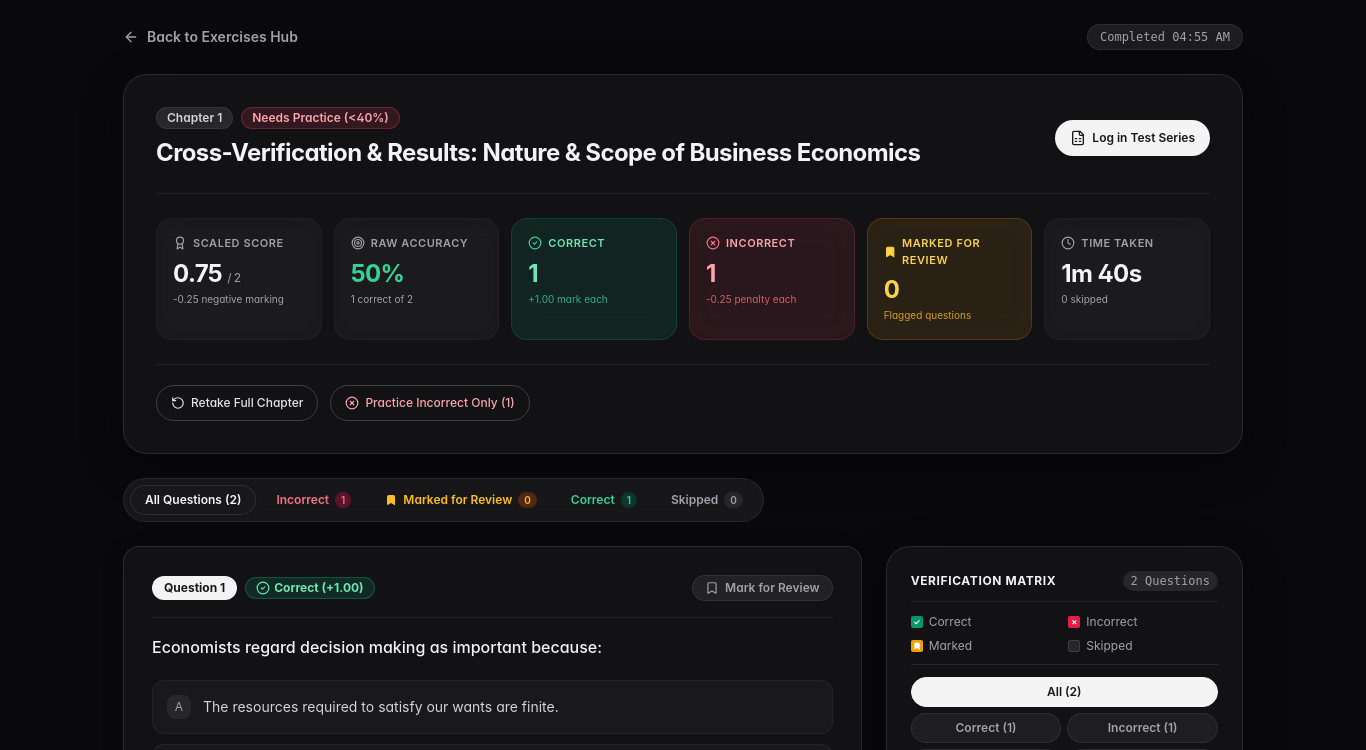
Exercise Session Flow and UI Interactions › jumps to question from palette even when filtered out by resetting filter to all
# Filter by incorrect (only Q2 is visible, Q1 is hidden)
Click the button with aria-label "Filter: Incorrect" at [314, 500], box [262,486,365,514]
(page scrolled)
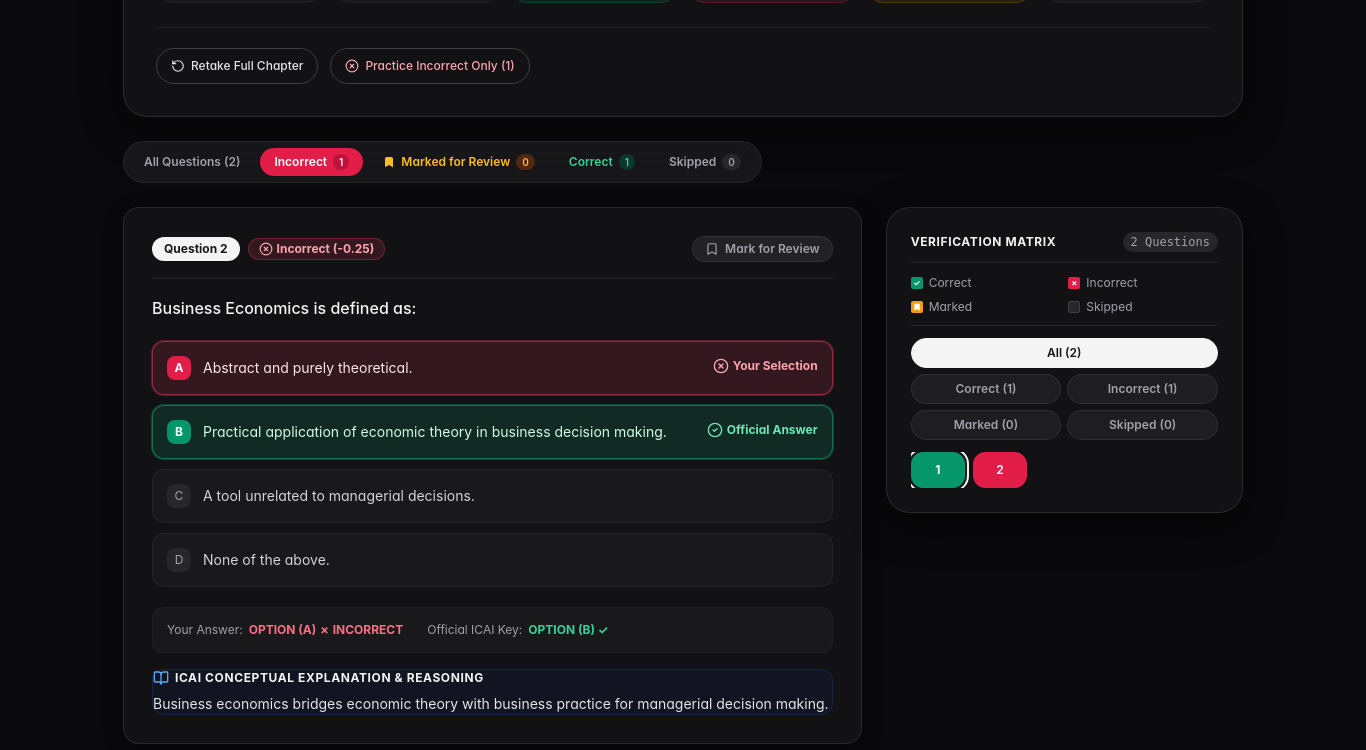
Result: the text "Economists regard decision making as important because:" is gone
# Now click Question 1 button in palette matrix
Click the button named "Jump to question 1" at [938, 470], box [911,452,965,488]
(page scrolled)
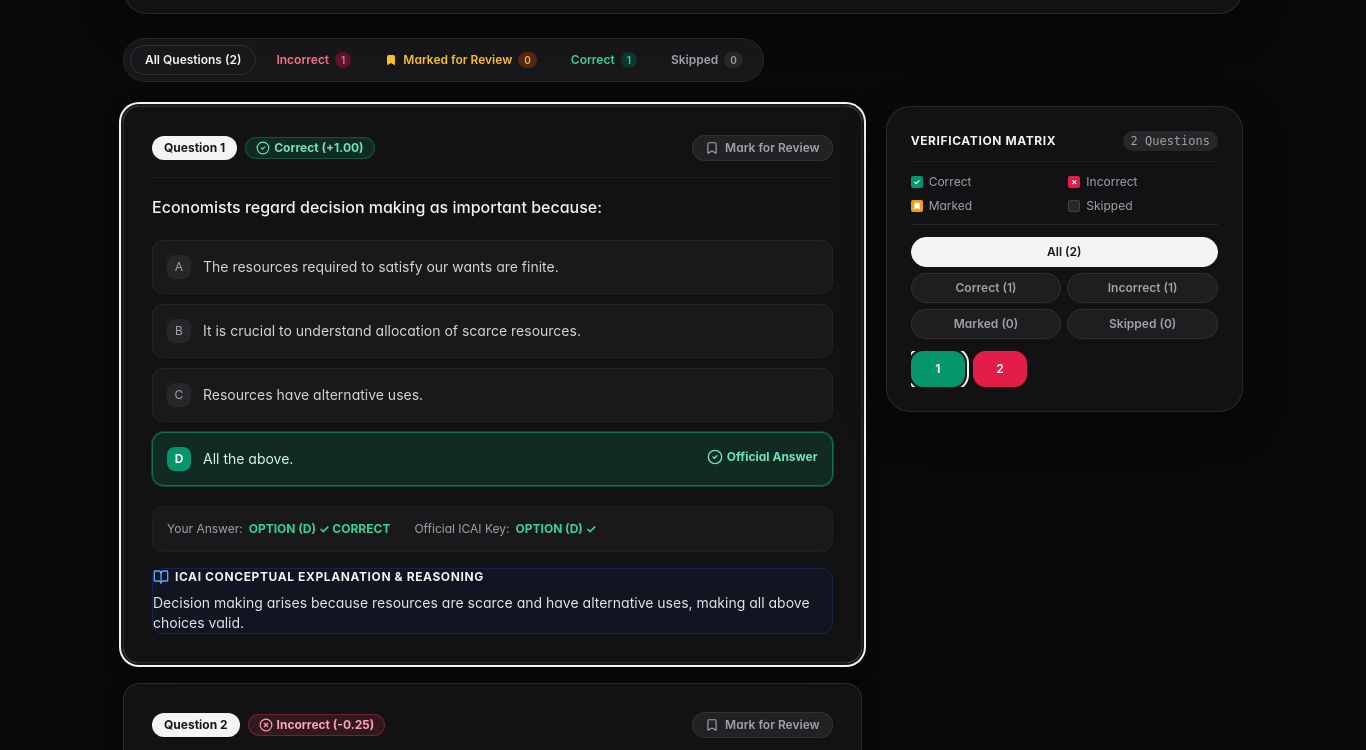
Result: the text "Economists regard decision making as important because:" is shown at [152,197,602,217]
